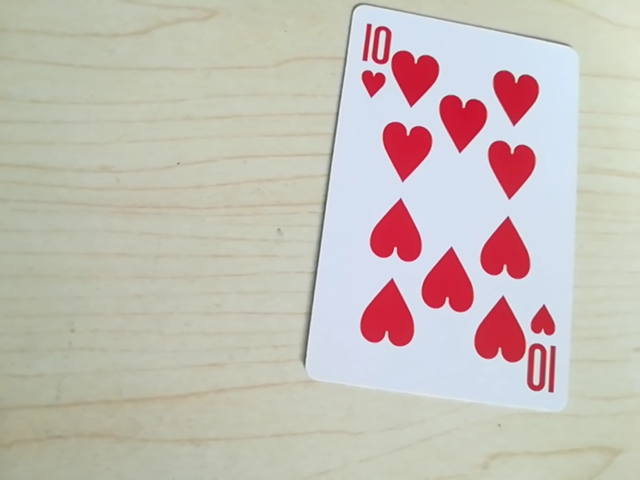hx 10: (518, 304, 565, 399), (354, 12, 392, 105)
